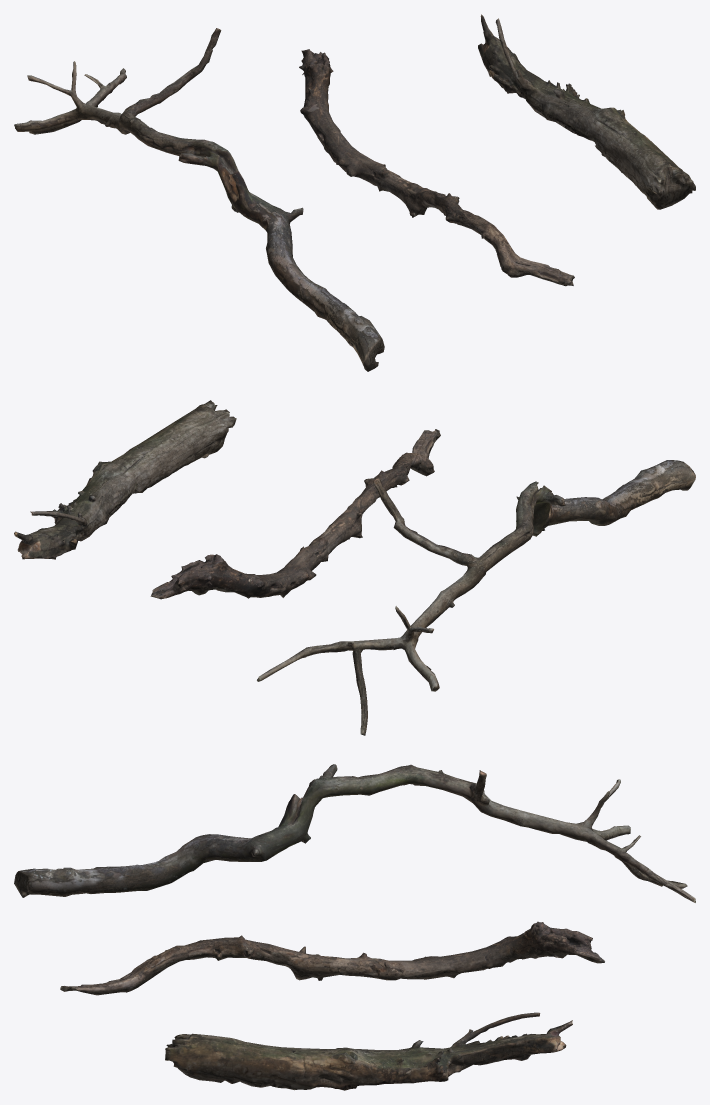
The model's file is dry_branches_medium_01.glb.
3 views of the same model, one above another, from view 1: azimuth 30°, elevation 25°; view 2: azimuth 150°, elevation 25°; view 3: azimuth 270°, elevation 25° (orthographic). The views are drawn at different scales.
Visible parts, largest first — view 1: dry_branches_medium_01_a, dry_branches_medium_01_c, dry_branches_medium_01_b; view 2: dry_branches_medium_01_a, dry_branches_medium_01_c, dry_branches_medium_01_b; view 3: dry_branches_medium_01_a, dry_branches_medium_01_c, dry_branches_medium_01_b.
Part boxes in pixels (left/top/right/bottom): dry_branches_medium_01_a: left=14, top=28, right=384, bottom=371; dry_branches_medium_01_c: left=478, top=14, right=695, bottom=209; dry_branches_medium_01_b: left=299, top=49, right=574, bottom=286; dry_branches_medium_01_a: left=257, top=460, right=695, bottom=735; dry_branches_medium_01_c: left=14, top=400, right=236, bottom=559; dry_branches_medium_01_b: left=150, top=429, right=440, bottom=599; dry_branches_medium_01_a: left=14, top=764, right=695, bottom=902; dry_branches_medium_01_c: left=165, top=1012, right=572, bottom=1090; dry_branches_medium_01_b: left=60, top=921, right=604, bottom=995.
Bounding box in the file's own units: 1.06 × 0.341 × 1.3.
1 material, 1 textured.
